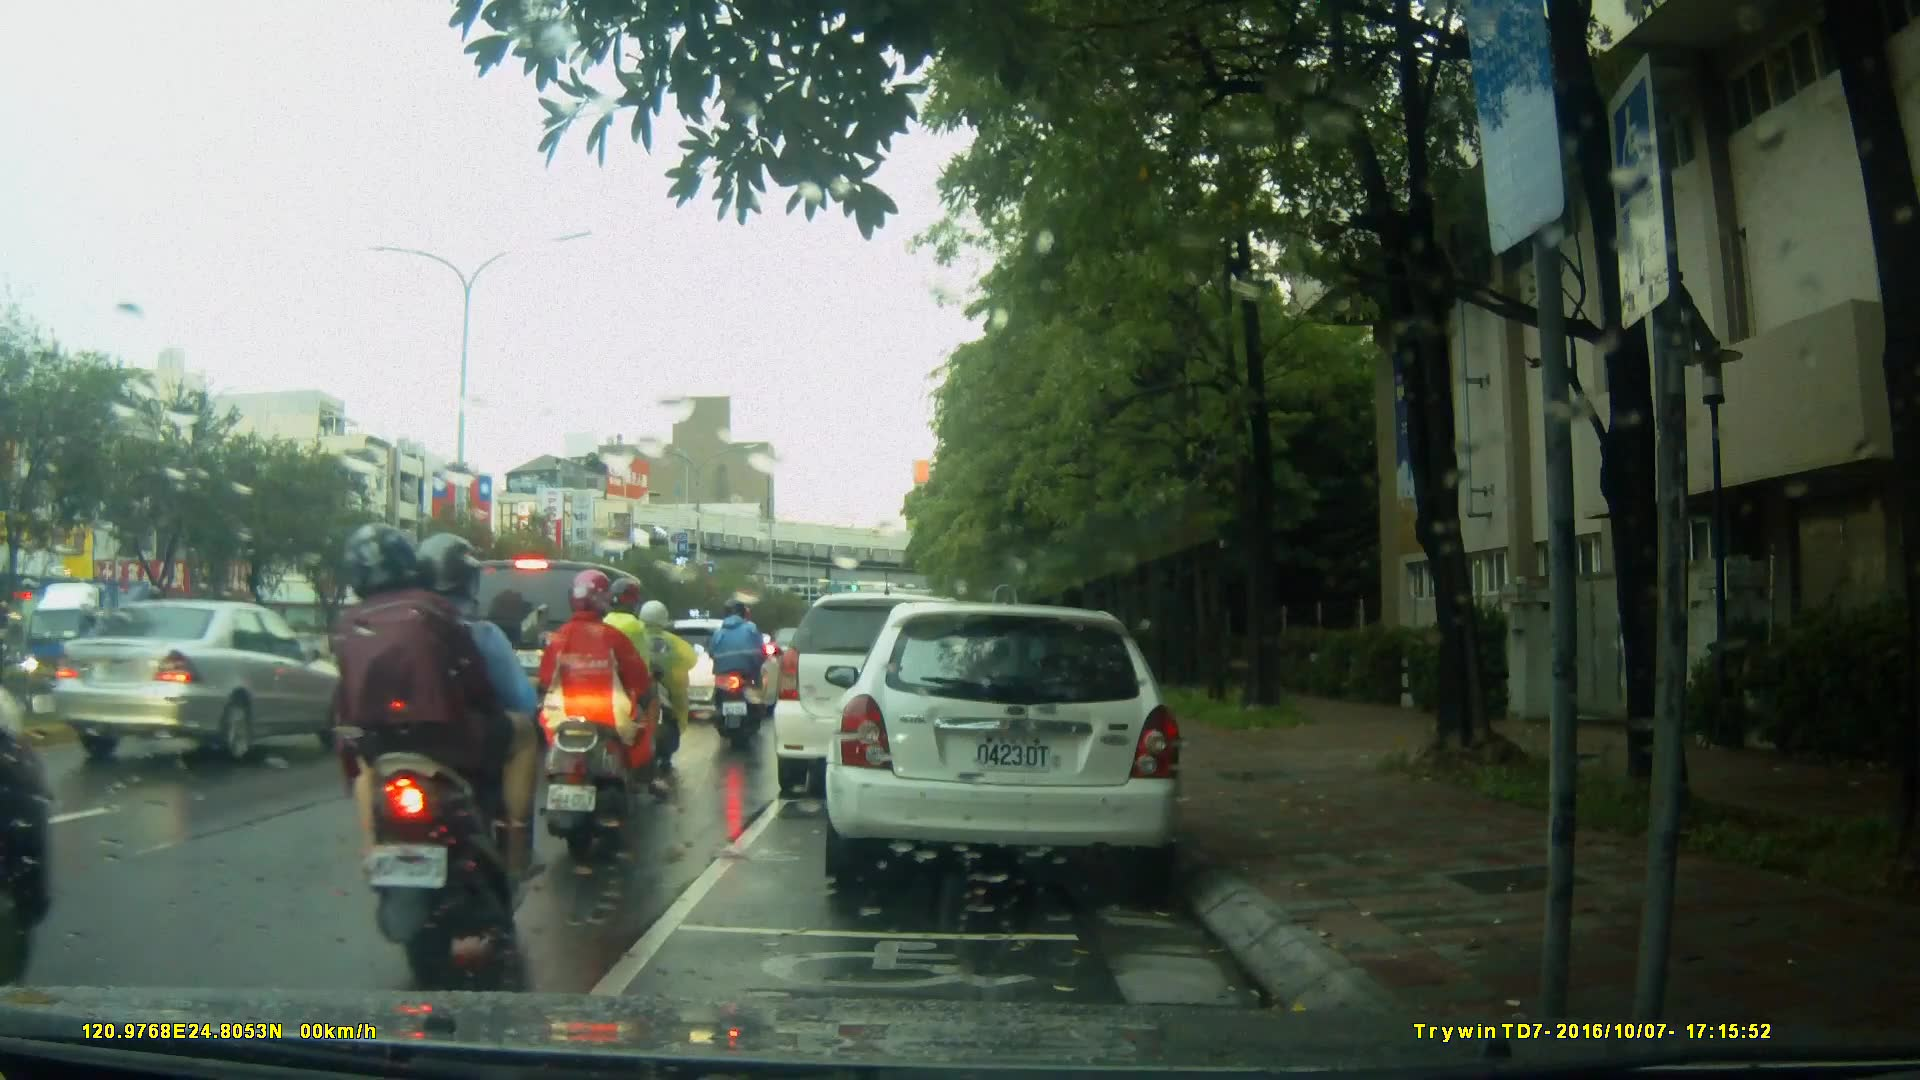rider: (339, 525, 540, 962), (537, 567, 658, 863), (343, 582, 459, 767), (620, 596, 697, 775), (706, 594, 767, 744)
vehicle: (822, 604, 1188, 883), (46, 597, 368, 761), (774, 595, 995, 802), (453, 558, 665, 739)
